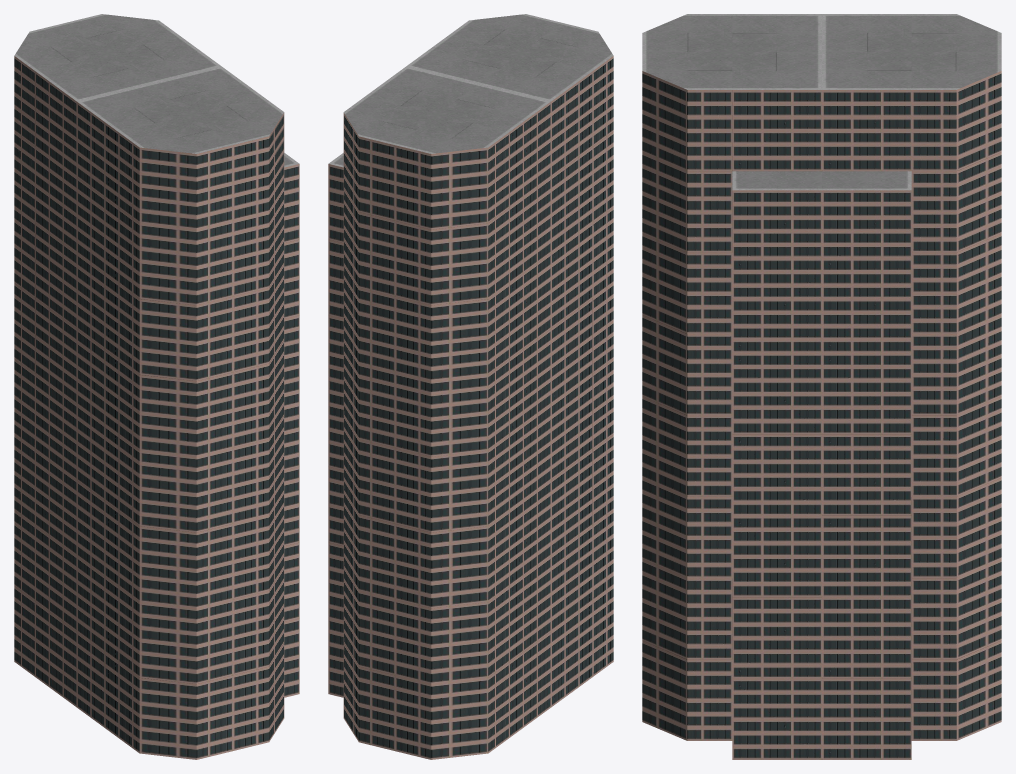
The model's file is Building_OctagonLongTier.FBX.
The picture shows the model from 3 angles, left to right: view 1: azimuth 30°, elevation 25°; view 2: azimuth 150°, elevation 25°; view 3: azimuth 270°, elevation 25°; orthographic projection. The views are drawn at different scales.
Visible parts, largest first — view 1: Building_octagonLongTier; view 2: Building_octagonLongTier; view 3: Building_octagonLongTier.
Boxes of the visible parts, x1,y1,x2,y2 form: Building_octagonLongTier: (14,14,299,759); Building_octagonLongTier: (328,14,613,759); Building_octagonLongTier: (642,14,1001,759).
Bounding box in the file's own units: 15.02 × 48.08 × 24.04.
